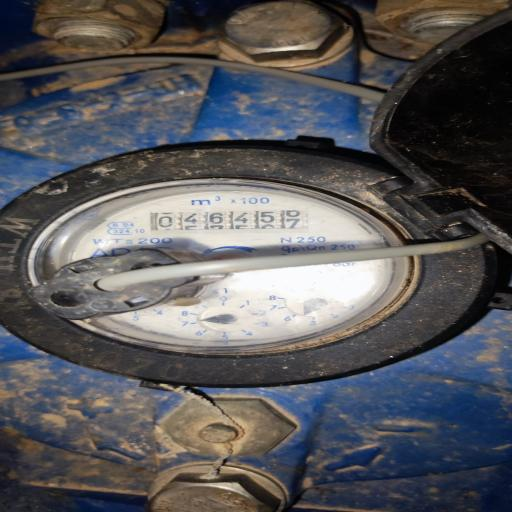0: (154, 215, 177, 228)
4: (182, 212, 203, 224), (233, 212, 251, 224)
5: (258, 212, 277, 224)
6: (208, 212, 226, 225)
7: (284, 218, 302, 228)
medida: (150, 210, 309, 231)
